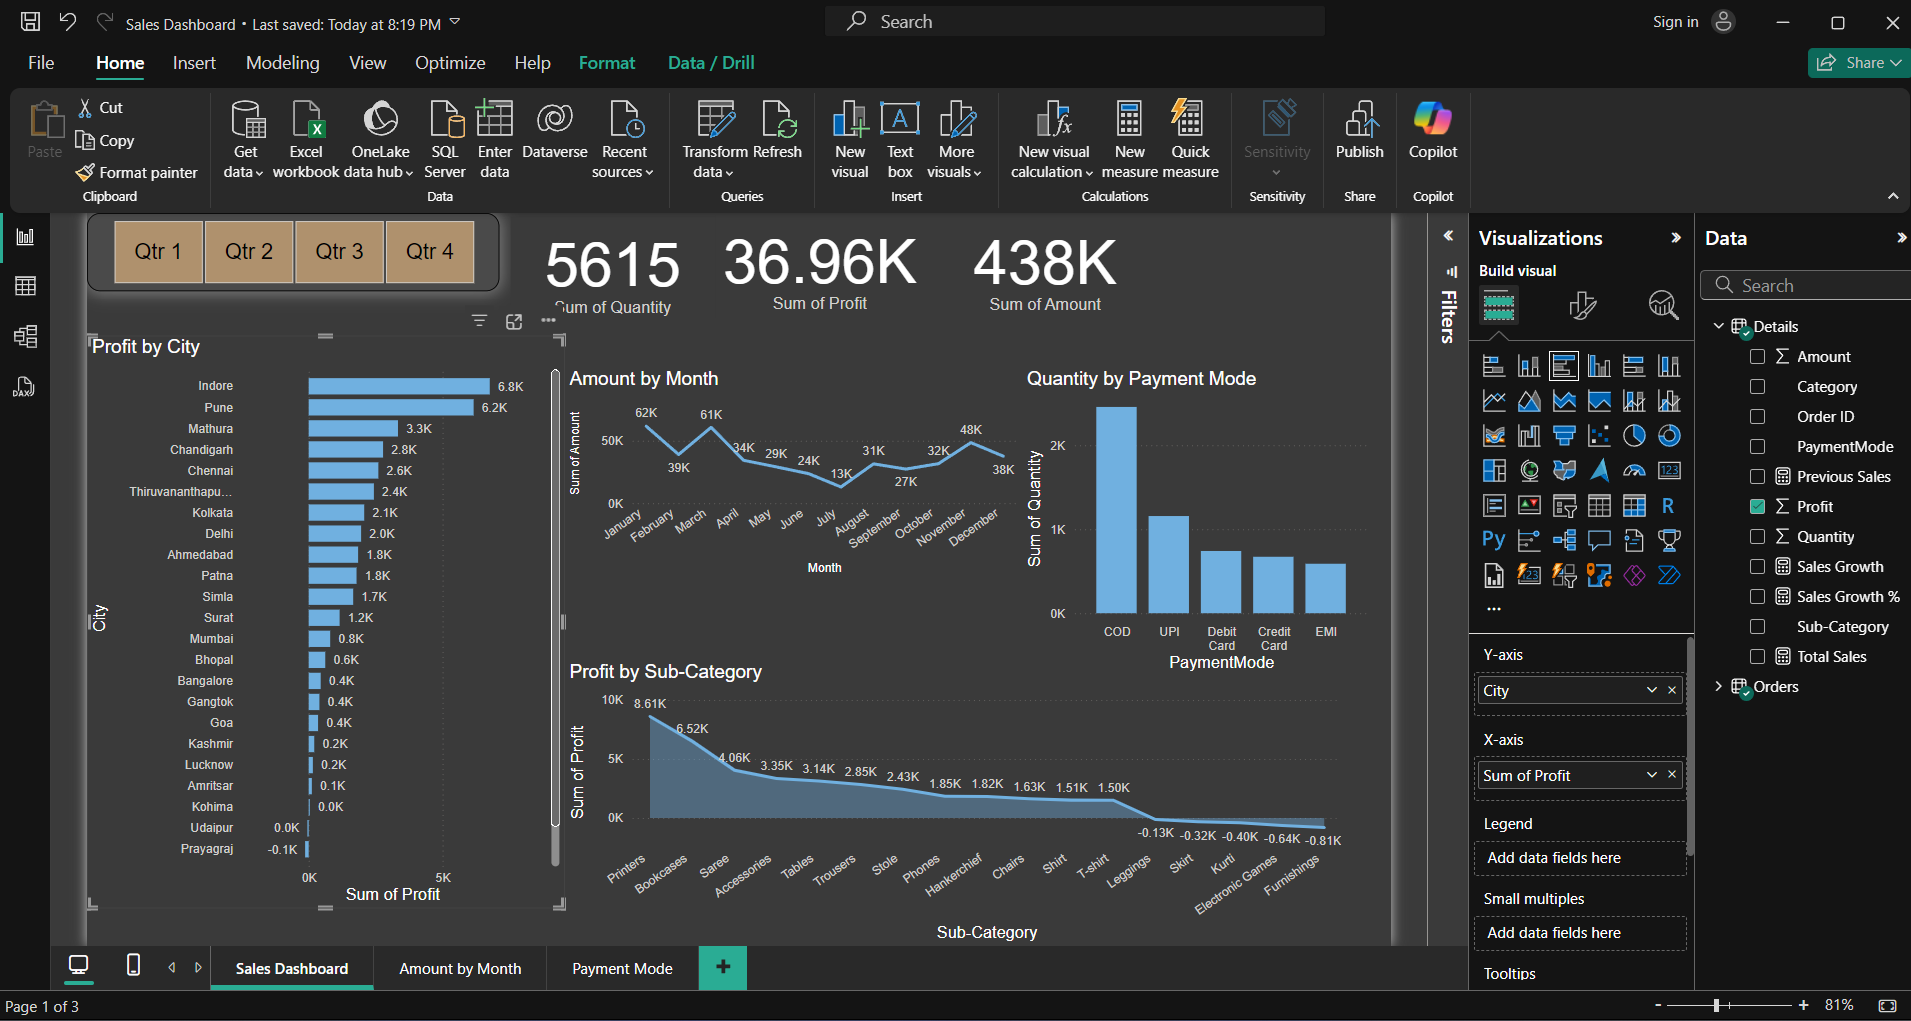

The page's visual inventory and layout, read from the dashboard file:
{"tool":"powerbi","page":{"name":"Sales Dashboard","canvas":[1280,720],"ordinal":0},"visuals":[{"type":"slicer","fields":{"Values":["Orders.Order Date.Variation.Date Hierarchy.Quarter"]},"box":[0,0,404.8,77.1],"z":0},{"type":"card","fields":{"Values":["Sum(Details.Quantity)"]},"box":[416.4,3.9,200.5,102.8],"z":1000},{"type":"card","fields":{"Values":["Sum(Details.Profit)"]},"box":[617.1,0,204.6,102.9],"z":2000},{"type":"card","fields":{"Values":["Sum(Details.Amount)"]},"box":[835.4,0,210.3,105.1],"z":3000},{"type":"stackedAreaChart","title":"Profit by Sub-Category","fields":{"Category":["Details.Sub-Category"],"Y":["Sum(Details.Profit)"]},"box":[468.8,438.8,767.5,281.2],"z":4000},{"type":"lineChart","title":" Amount by Month","fields":{"Category":["Orders.Order Date.Variation.Date Hierarchy.Month"],"Y":["Sum(Details.Amount)"]},"box":[468.8,152.5,448.8,207.5],"z":5000},{"type":"clusteredColumnChart","title":"Quantity by Payment Mode","fields":{"Y":["Sum(Details.Quantity)"],"Category":["Details.PaymentMode"]},"box":[917.5,152.5,345,302.5],"z":6000},{"type":"clusteredBarChart","title":"Profit by City","fields":{"Category":["Orders.City"],"Y":["Sum(Details.Profit)"]},"box":[0,120.8,469.1,562.9],"z":7000}]}

Visuals, with their boxes on the page's 1280x720 design canvas (x1, y1, x2, y2). These are canvas units, not pixel positions in the 1911x1021 screenshot, which may show the page scaled, cropped or inside an application window:
slicer - Orders.Order Date.Variation.Date Hierarchy.Quarter: <box>0,0,405,77</box>
card - Sum(Details.Quantity): <box>416,4,617,107</box>
card - Sum(Details.Profit): <box>617,0,822,103</box>
card - Sum(Details.Amount): <box>835,0,1046,105</box>
"Profit by Sub-Category" stackedAreaChart: <box>469,439,1236,720</box>
" Amount by Month" lineChart: <box>469,152,918,360</box>
"Quantity by Payment Mode" clusteredColumnChart: <box>918,152,1262,455</box>
"Profit by City" clusteredBarChart: <box>0,121,469,684</box>
